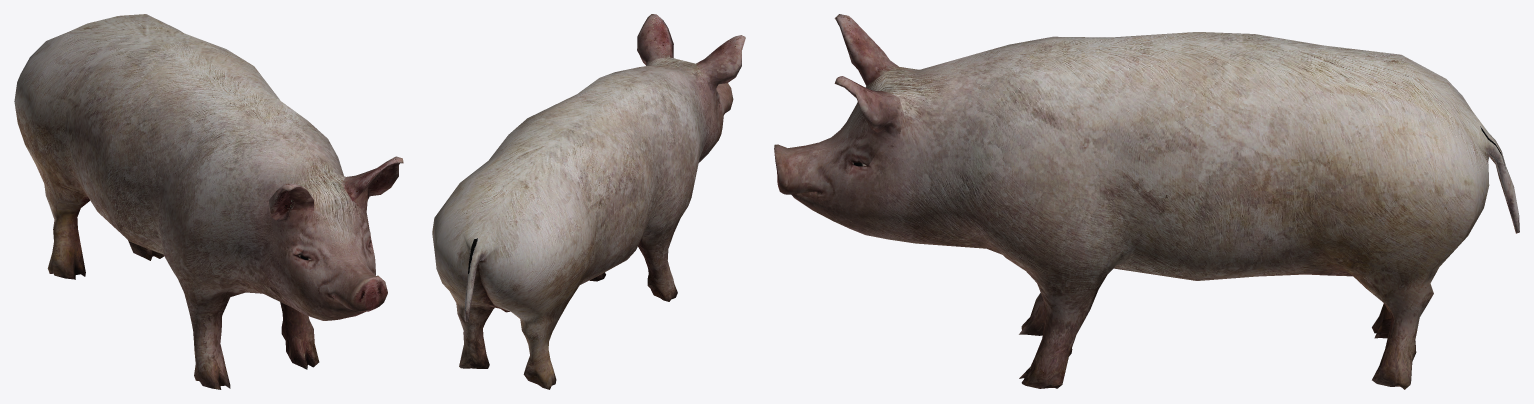
Rendered from pig.glb.
The picture shows the model from 3 angles, left to right: view 1: azimuth 30°, elevation 25°; view 2: azimuth 150°, elevation 25°; view 3: azimuth 270°, elevation 25°; orthographic projection. The views are drawn at different scales.
Visible parts, largest first — view 1: pig; view 2: pig; view 3: pig.
Part boxes in pixels (<box>): pig: <box>14,14,403,389</box>; pig: <box>432,14,745,389</box>; pig: <box>774,14,1519,389</box>.
Bounding box in the file's own units: 1.04 × 1.5 × 3.24.
Materials: 1 (1 with a texture image).
